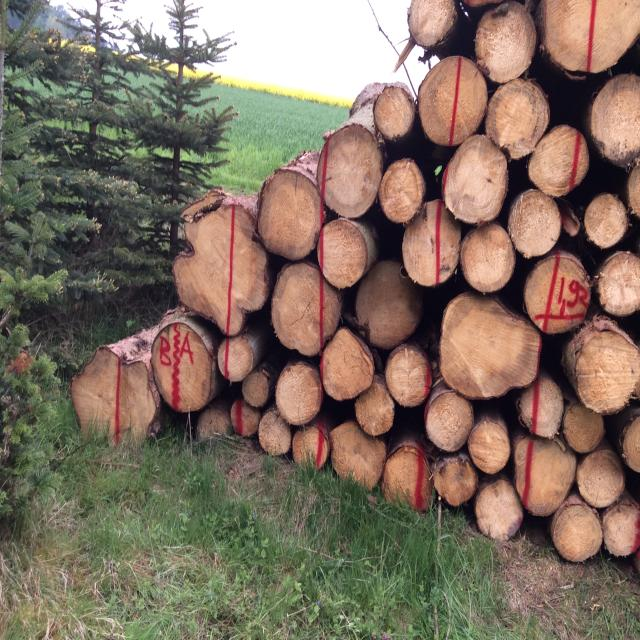wood-log: (174, 200, 269, 334), (442, 294, 544, 401), (68, 350, 157, 446), (539, 2, 638, 76), (567, 320, 640, 413), (420, 55, 490, 146), (444, 136, 511, 225), (271, 264, 334, 358), (320, 126, 384, 218), (355, 259, 421, 348), (152, 322, 216, 413), (258, 172, 322, 260), (524, 253, 591, 335), (488, 78, 552, 158), (400, 198, 458, 286), (476, 4, 538, 84), (516, 436, 579, 514), (589, 73, 640, 165), (527, 124, 589, 198), (228, 204, 266, 314), (461, 223, 518, 294), (322, 326, 377, 399), (319, 217, 373, 287), (506, 189, 561, 257), (331, 420, 386, 487), (379, 448, 433, 516), (475, 479, 525, 542), (274, 362, 322, 427), (377, 159, 423, 225), (382, 345, 431, 406), (424, 390, 473, 450), (520, 376, 567, 438), (576, 449, 624, 508), (552, 503, 601, 560), (598, 252, 640, 317), (582, 193, 628, 249), (468, 420, 512, 475), (374, 85, 416, 141), (408, 0, 456, 47), (435, 456, 479, 507), (356, 382, 396, 437), (563, 404, 605, 453), (603, 502, 640, 556), (291, 422, 330, 471), (225, 335, 258, 382), (259, 409, 292, 455), (242, 369, 272, 407), (231, 399, 260, 438), (196, 406, 230, 438), (623, 418, 640, 476), (626, 160, 640, 219), (230, 300, 246, 336), (462, 0, 503, 8)
